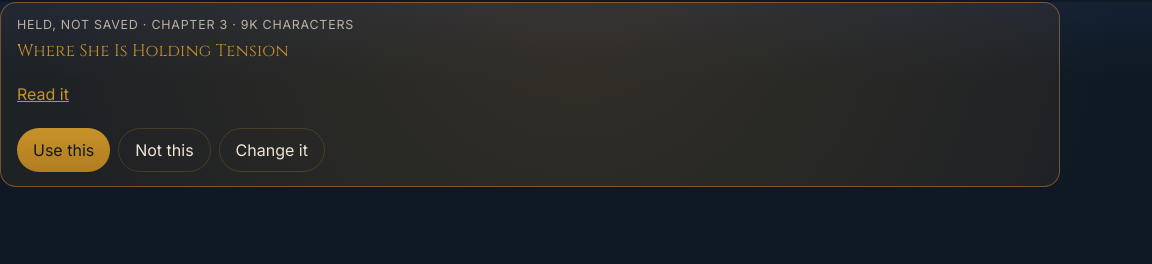
Scenario: reading it › expands and collapses
This screenshot has width=1152, height=264.
What coordinates should you click on to do the following:
click the button "Read it"
I would click on:
 (43, 94)
Its box is [17,70,69,118].
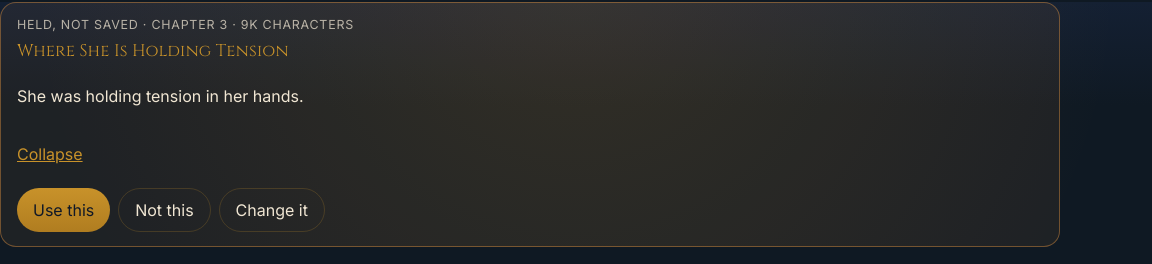
expect the text "She was holding tension in her hands." is shown: met, box [17,86,304,106]
expect the button "Collapse" is shown: met, box [17,130,83,178]
